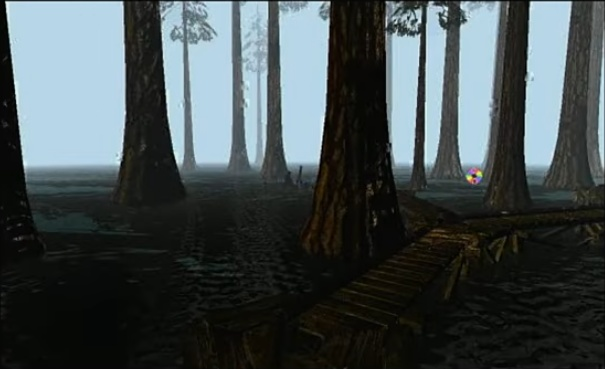Waiting: (462, 164, 486, 186)
